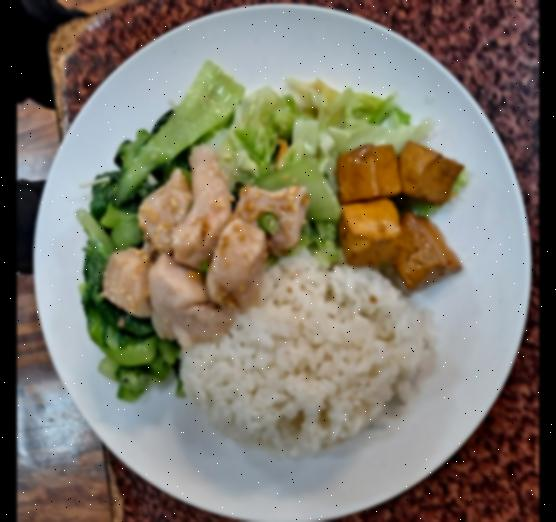plate: (26, 0, 537, 522)
scallion chicken: (100, 154, 304, 349)
side dish: (71, 78, 216, 400), (226, 67, 410, 260), (328, 138, 466, 292)
white rice: (180, 243, 442, 463)
